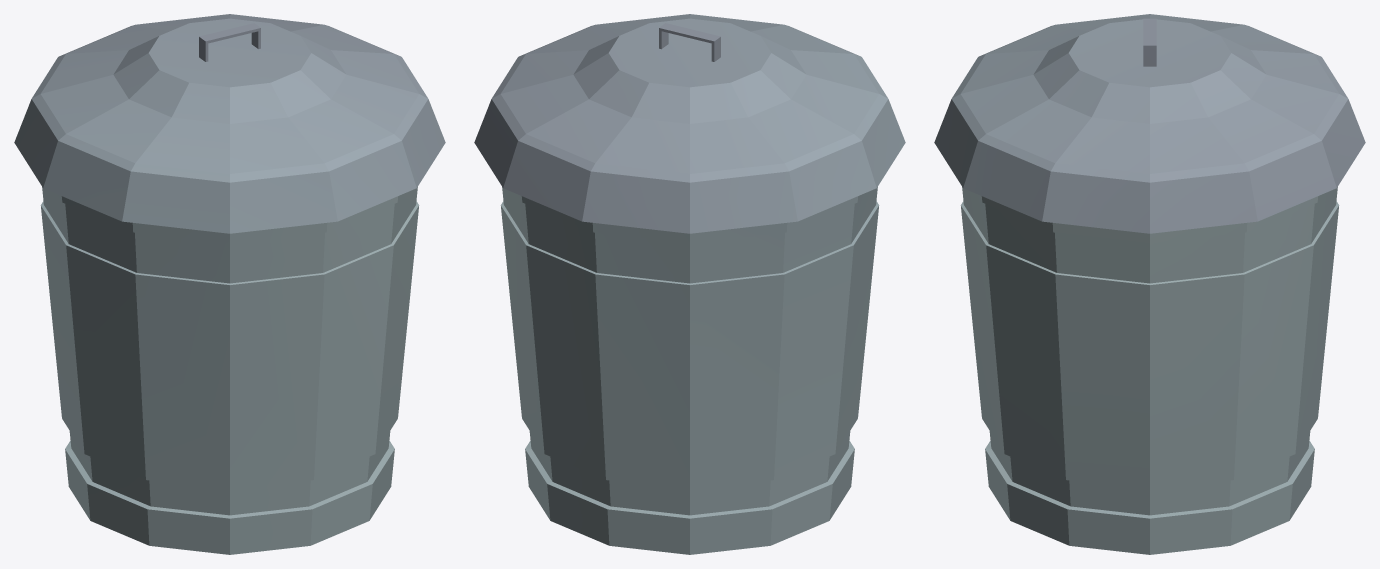
Rendered from TrashCan.fbx.
3 views of the same model, side by side, from view 1: azimuth 30°, elevation 25°; view 2: azimuth 150°, elevation 25°; view 3: azimuth 270°, elevation 25° (orthographic).
Parts seen in each view (by area): view 1: Cylinder; view 2: Cylinder; view 3: Cylinder.
Part boxes in pixels (box(x1,y1,x2,y2)): Cylinder: box(14, 14, 445, 554); Cylinder: box(474, 14, 905, 554); Cylinder: box(934, 14, 1365, 554).
Size of the model in its own units: 219 by 255 by 219.
